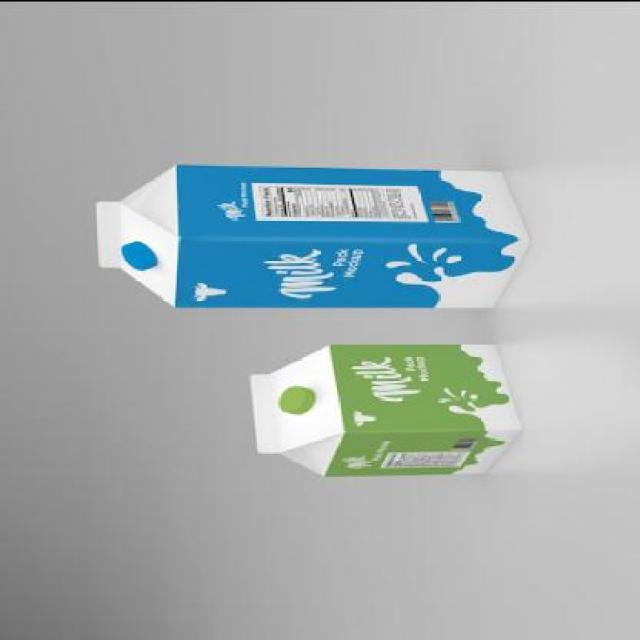non_white_jug: (80, 155, 549, 316), (245, 336, 522, 481)
